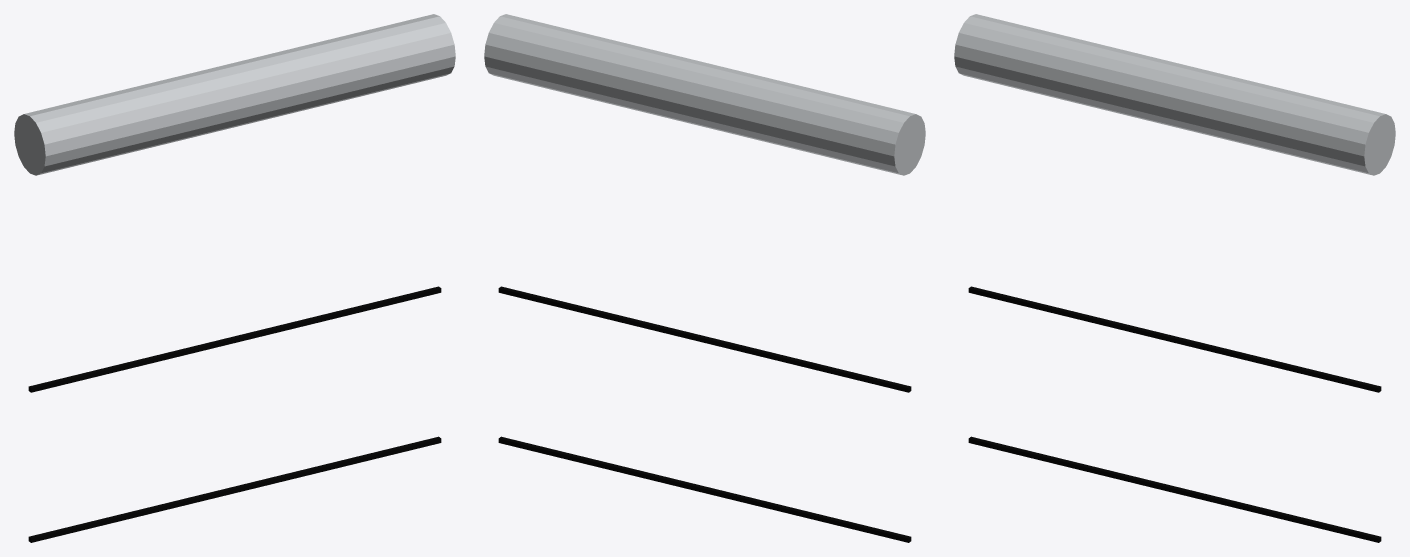
The model's file is moretop_0_long.obj.
3 renders of one model, left to right at view 1: azimuth 30°, elevation 25°; view 2: azimuth 150°, elevation 25°; view 3: azimuth 330°, elevation 25°, orthographic.
Visible parts, largest first — view 1: moretop_1.002, moretop_1.004; view 2: moretop_1.002, moretop_1.004; view 3: moretop_1.002, moretop_1.004.
Boxes of the visible parts, x1,y1,x2,y2 form: moretop_1.002: [14, 14, 455, 175]; moretop_1.004: [28, 286, 441, 542]; moretop_1.002: [484, 14, 925, 175]; moretop_1.004: [498, 286, 911, 542]; moretop_1.002: [954, 14, 1395, 175]; moretop_1.004: [968, 286, 1381, 542].
Bounding box in the file's own units: 3 × 2.98 × 0.4.
Materials: 2 (2 with a texture image).
